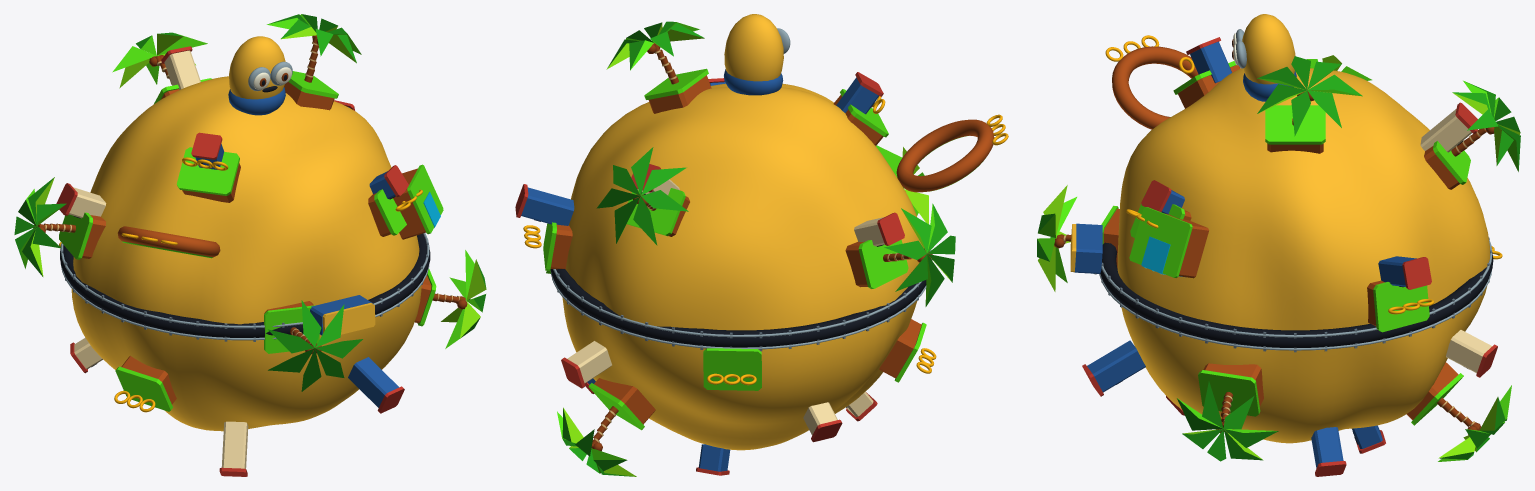
Rendered from runner.obj.
3 views of the same model, side by side, from view 1: azimuth 30°, elevation 25°; view 2: azimuth 150°, elevation 25°; view 3: azimuth 270°, elevation 25° (orthographic). The views are drawn at different scales.
Visible parts, largest first — view 1: surface, railway, green_hill_island_6, minion_tower, green_hill_island_4, green_hill_island_0, green_hill_island_8, green_hill_island_1, green_hill_island_9, green_hill_island_2, turquoise_cascade, green_hill_loop (+9 smaller); view 2: surface, railway, green_hill_island_4, green_hill_island_2, minion_tower, green_hill_loop, green_hill_island_0, green_hill_island_10, green_hill_island_7, green_hill_island_9, city_5, green_hill_island_5 (+8 smaller); view 3: surface, railway, green_hill_island_8, green_hill_island_0, green_hill_island_2, turquoise_cascade, minion_tower, green_hill_island_10, green_hill_loop, green_hill_island_6, green_hill_island_5, city_11 (+11 smaller).
Part boxes in pixels (x1,y1,x2,y2): surface: (71, 76, 421, 431); railway: (60, 233, 430, 340); green_hill_island_6: (264, 300, 362, 391); minion_tower: (228, 36, 292, 115); green_hill_island_4: (14, 177, 105, 276); green_hill_island_0: (267, 14, 361, 110); green_hill_island_8: (415, 250, 486, 348); green_hill_island_1: (176, 147, 240, 202); green_hill_island_9: (114, 356, 176, 412); green_hill_island_2: (112, 32, 211, 103); turquoise_cascade: (393, 164, 443, 239); green_hill_loop: (117, 226, 220, 258); surface: (562, 83, 923, 450); railway: (550, 248, 932, 349); green_hill_island_4: (845, 203, 955, 306); green_hill_island_2: (596, 147, 689, 245); minion_tower: (724, 14, 790, 95); green_hill_loop: (896, 114, 1008, 192); green_hill_island_0: (606, 21, 711, 113); green_hill_island_10: (557, 378, 655, 476); green_hill_island_7: (703, 348, 761, 390); green_hill_island_9: (879, 319, 936, 382); city_5: (515, 184, 574, 225); green_hill_island_5: (523, 222, 572, 270); surface: (1117, 68, 1489, 443); railway: (1099, 240, 1493, 350); green_hill_island_8: (1177, 363, 1278, 461); green_hill_island_0: (1257, 56, 1362, 153); green_hill_island_2: (1424, 80, 1520, 189); turquoise_cascade: (1129, 207, 1208, 278); minion_tower: (1232, 14, 1296, 101); green_hill_island_10: (1406, 362, 1511, 461); green_hill_loop: (1105, 35, 1198, 129); green_hill_island_6: (1037, 185, 1119, 291); green_hill_island_5: (1367, 280, 1434, 332); city_11: (1082, 340, 1145, 396).
Bounding box in the file's own units: 13.71 × 12.78 × 12.85.
